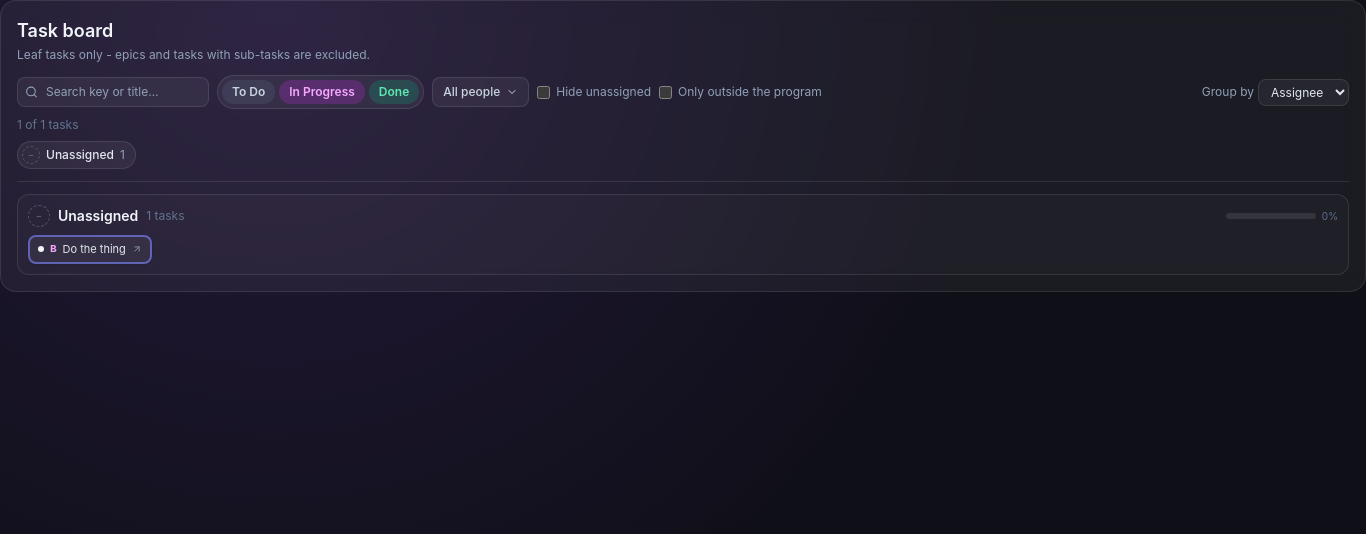
Test: AtlasTaskBoard › hides the sentinel jiraKey/Jira link for the "Outside the program" epic card, when grouped by epic
expect the text "B" is shown: met, box [50,241,57,258]
Select "Epic" in the dropdown named "Group tasks by" at (1304, 92), box [1258,78,1349,106]
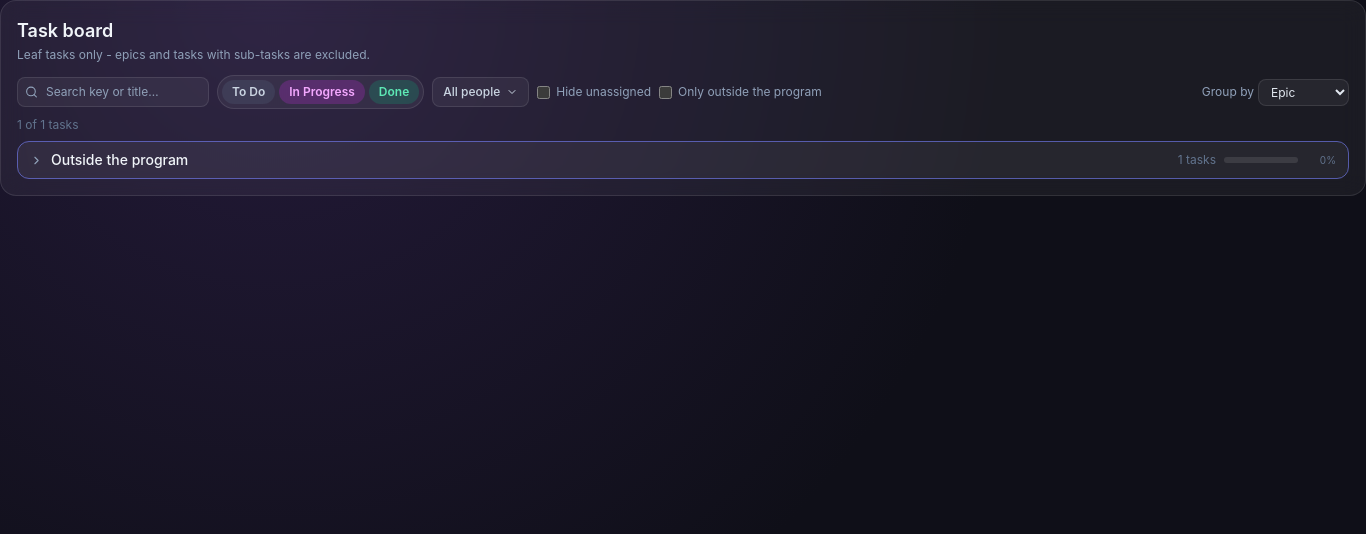
expect the text "Outside the program" is shown: met, box [51,151,188,168]
